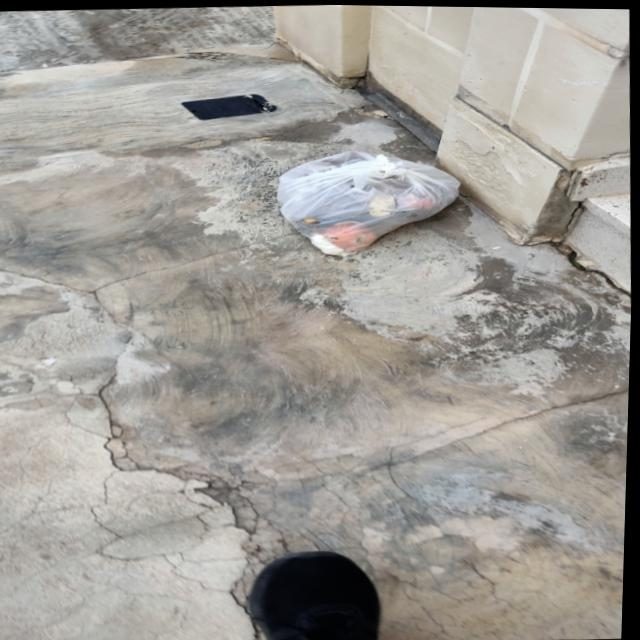Organic Waste -White Bags-: (277, 150, 465, 262)
